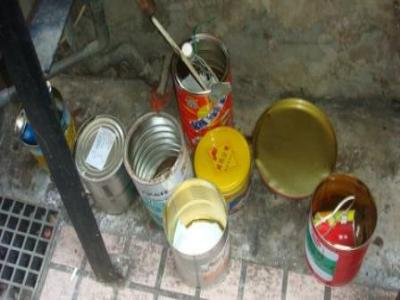bottle: (306, 173, 380, 288), (124, 110, 195, 227), (170, 31, 237, 152), (162, 178, 232, 289), (71, 113, 137, 214)
plate: (253, 96, 339, 199)
